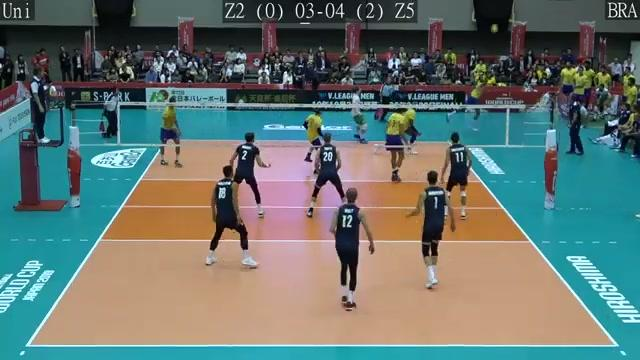ball: (489, 23, 498, 35)
